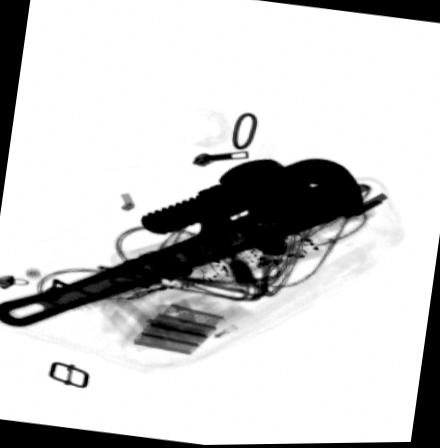Wrench: (0, 157, 365, 330)
